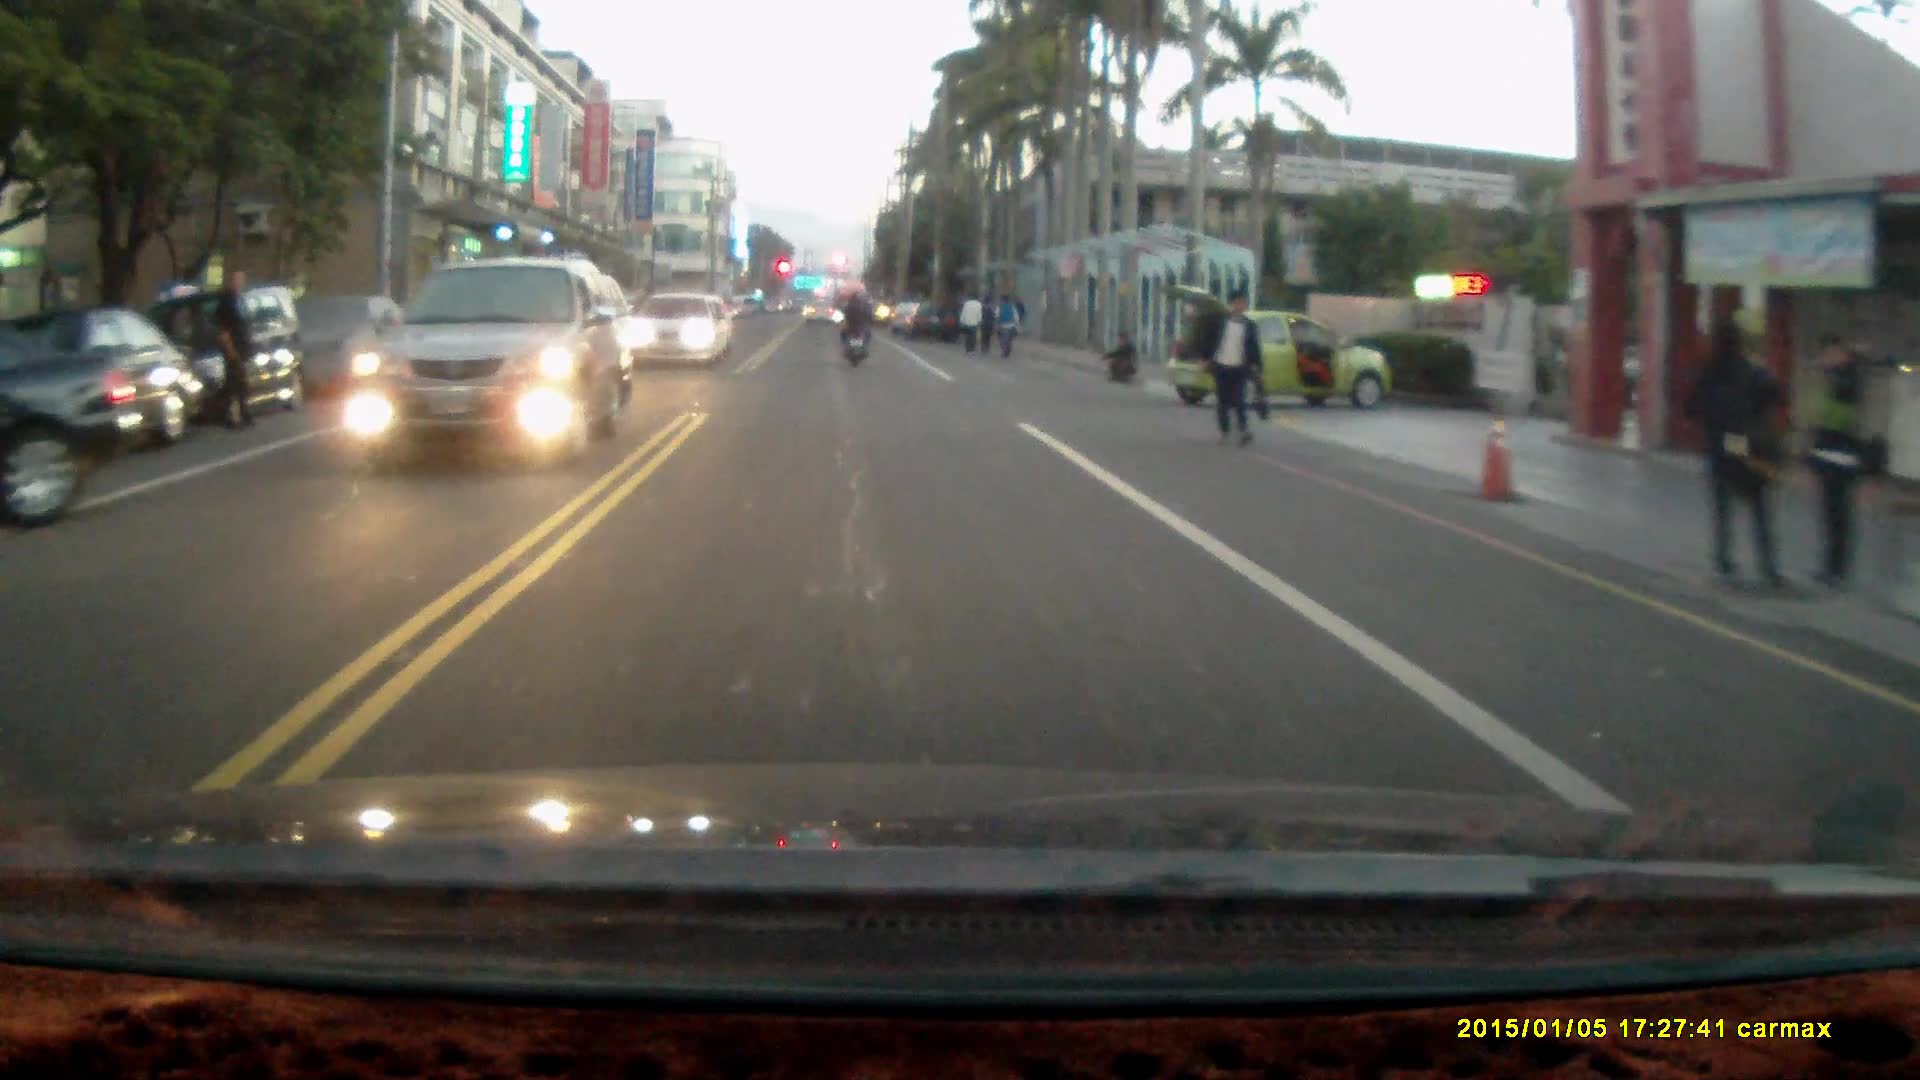pedestrian: (1683, 318, 1803, 606), (1805, 329, 1864, 594), (1201, 285, 1272, 453), (993, 289, 1019, 360), (1102, 327, 1135, 384), (961, 293, 984, 364), (978, 295, 998, 360)
rider: (835, 290, 874, 369)
vehicle: (353, 261, 629, 463), (0, 312, 144, 537), (1165, 284, 1397, 414), (155, 288, 313, 427), (631, 296, 737, 373)
